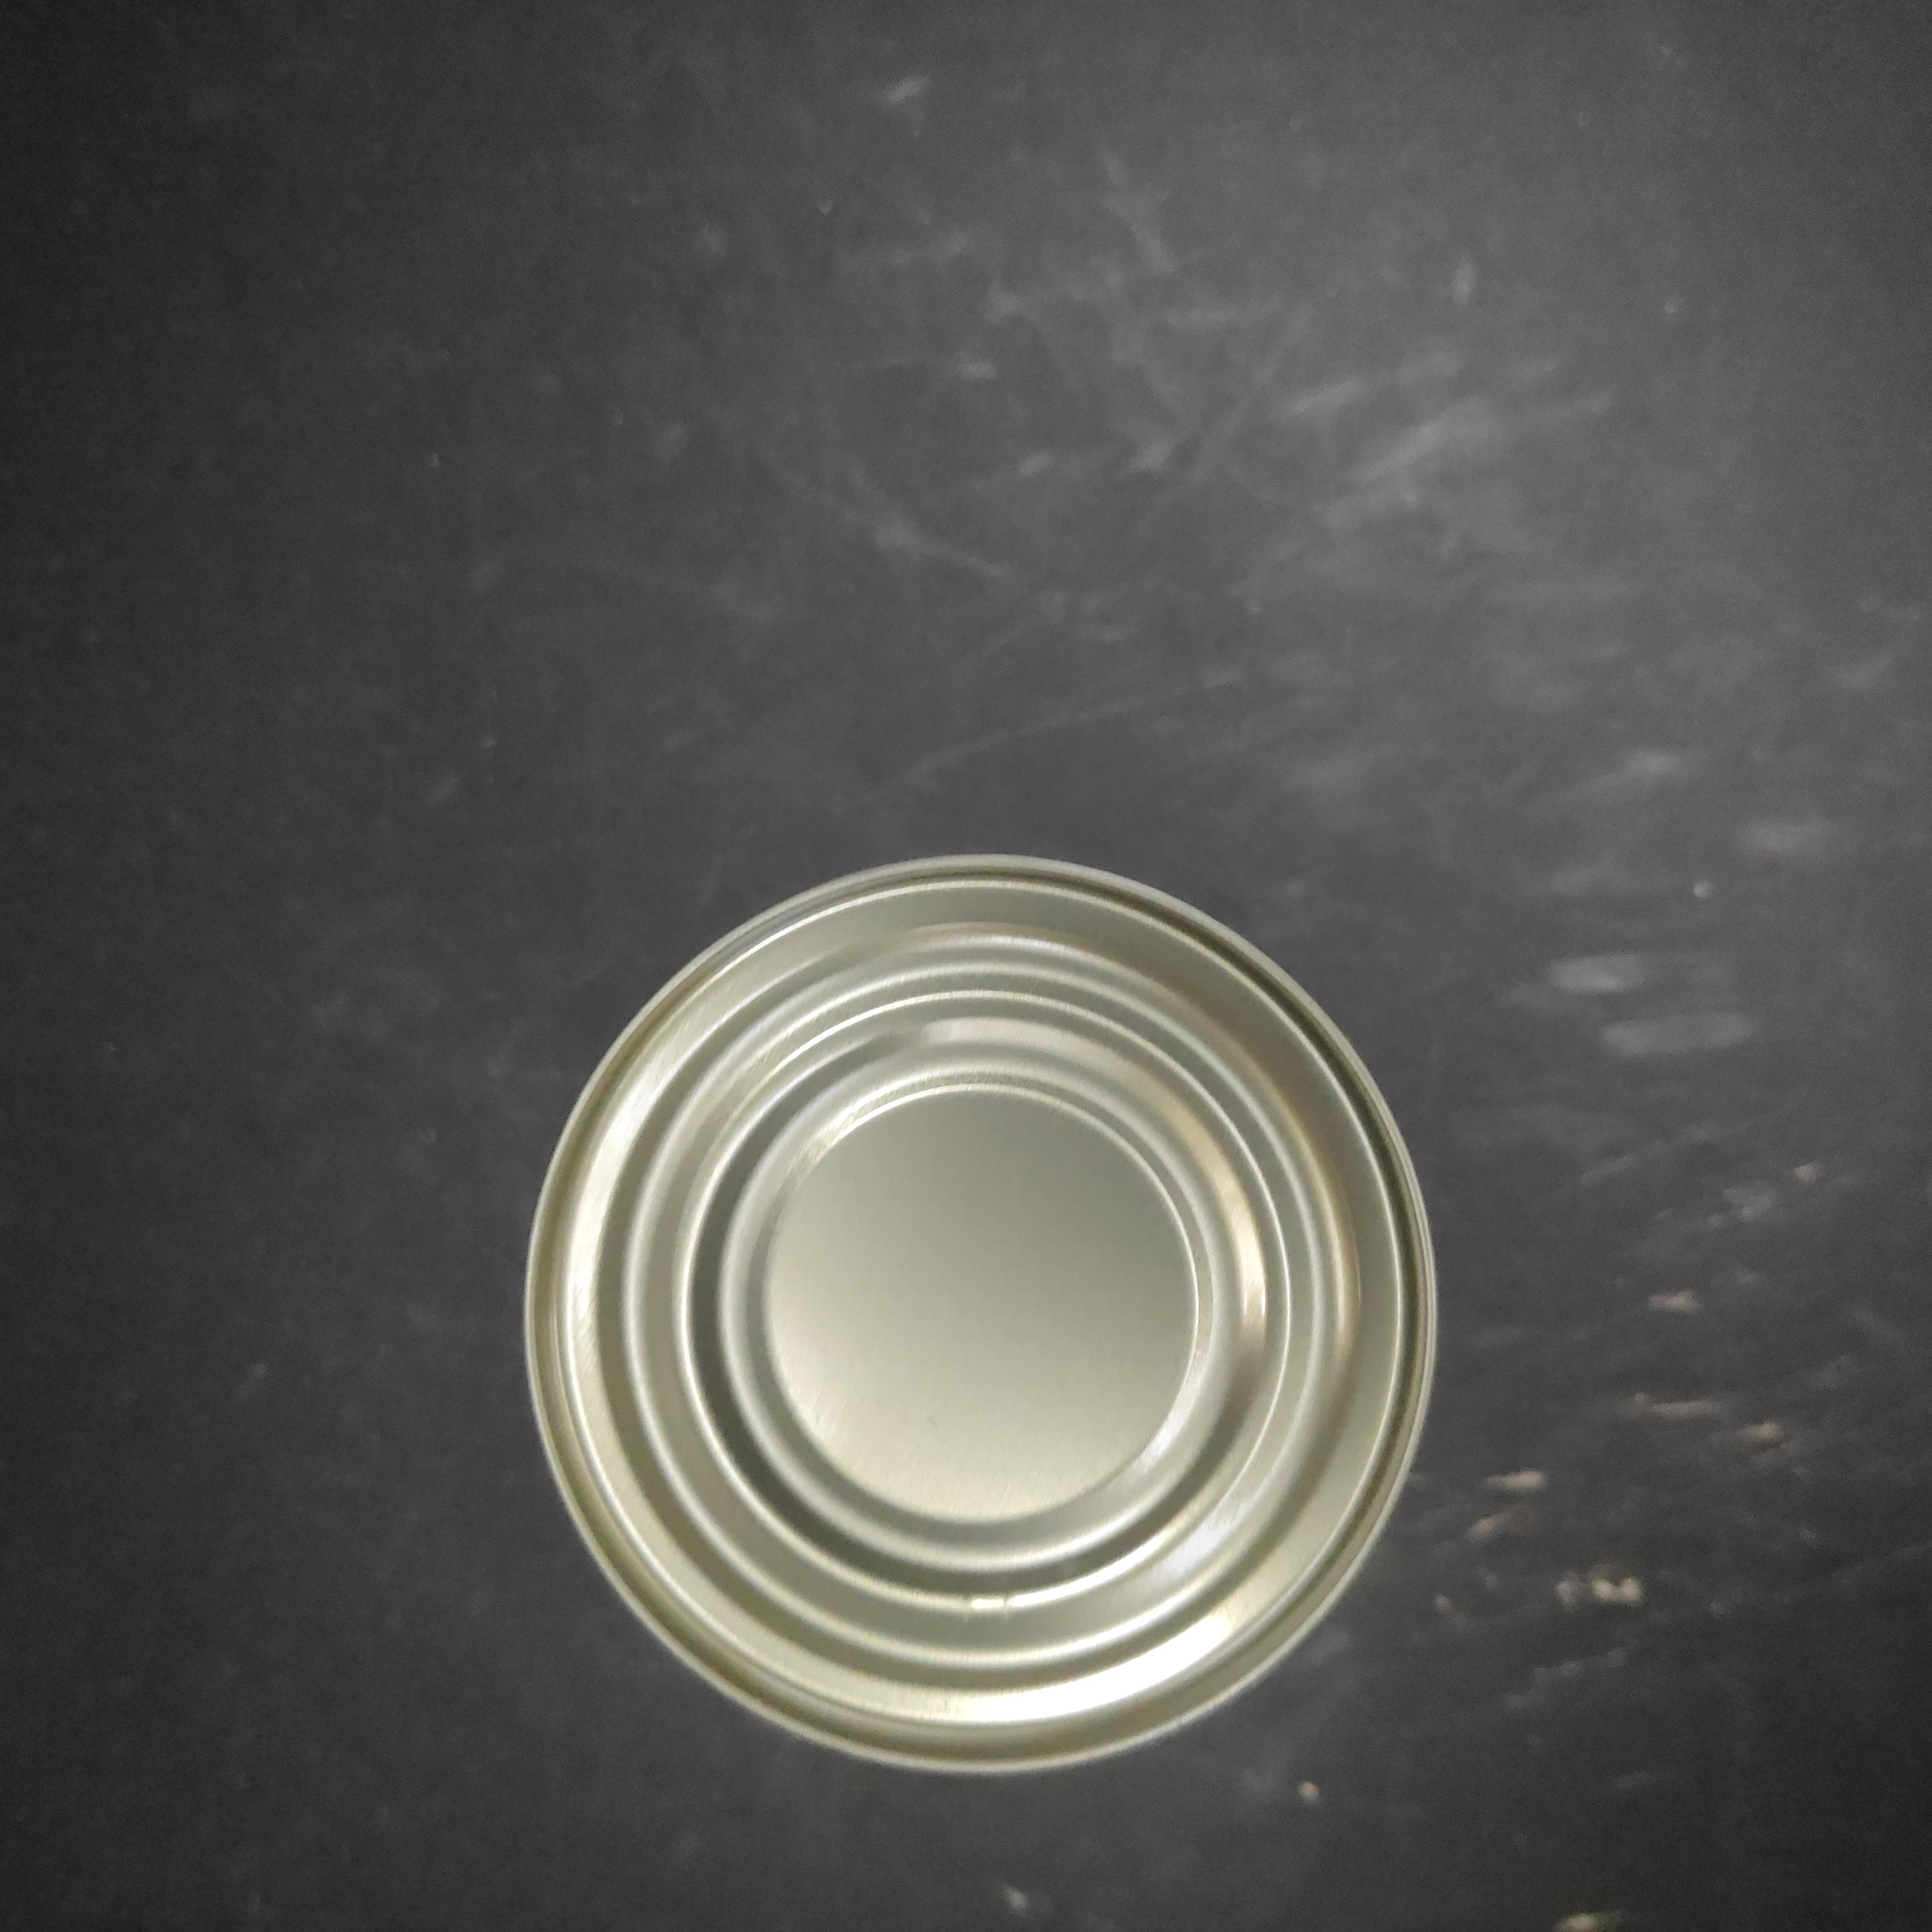No defect: (832, 474, 1798, 1433)
